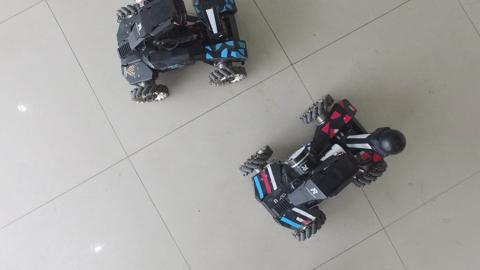chariot: (233, 87, 409, 248), (110, 1, 257, 108)
